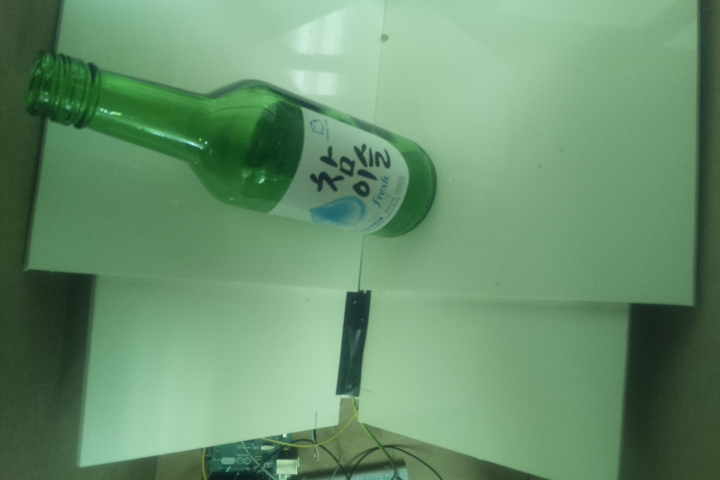soju: (21, 49, 439, 242)
